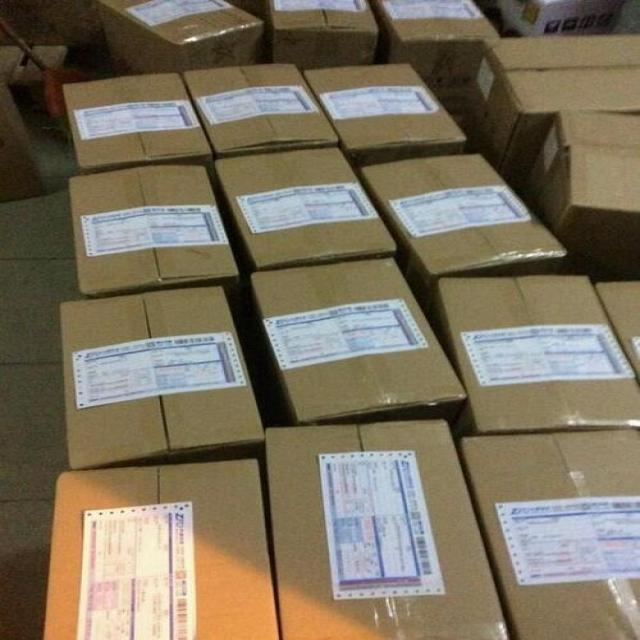box: (264, 422, 509, 640), (42, 459, 279, 640), (458, 429, 640, 639), (59, 287, 268, 469), (250, 259, 467, 427), (429, 276, 640, 436), (358, 155, 570, 308), (461, 35, 640, 185), (68, 166, 241, 297), (512, 107, 640, 276), (215, 149, 397, 267), (302, 62, 481, 176), (371, 0, 502, 118), (183, 64, 343, 158), (64, 74, 214, 174), (97, 0, 268, 77), (264, 0, 383, 70)
